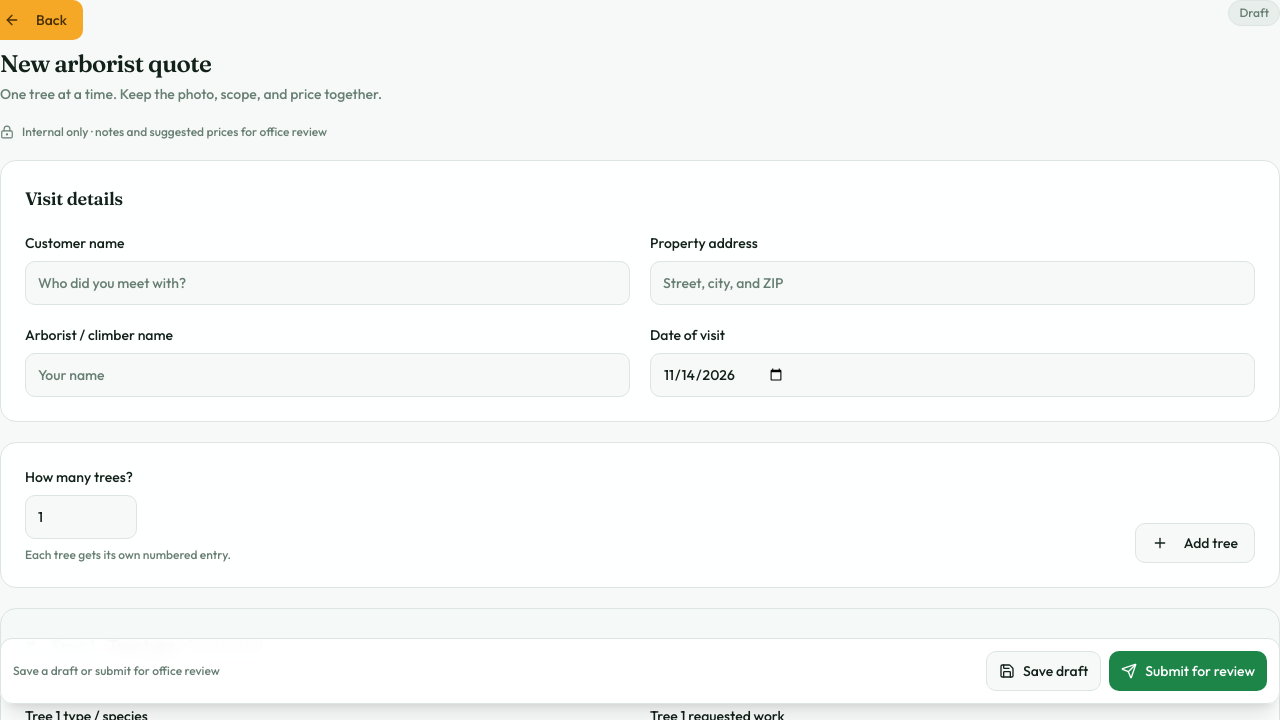
Test: arborist quote editor › creates five separately numbered trees and keeps notes with the correct tree after removal
Replace the text in the number field labelled "How many trees?" with "5" at (81, 517), box [25,495,137,539]
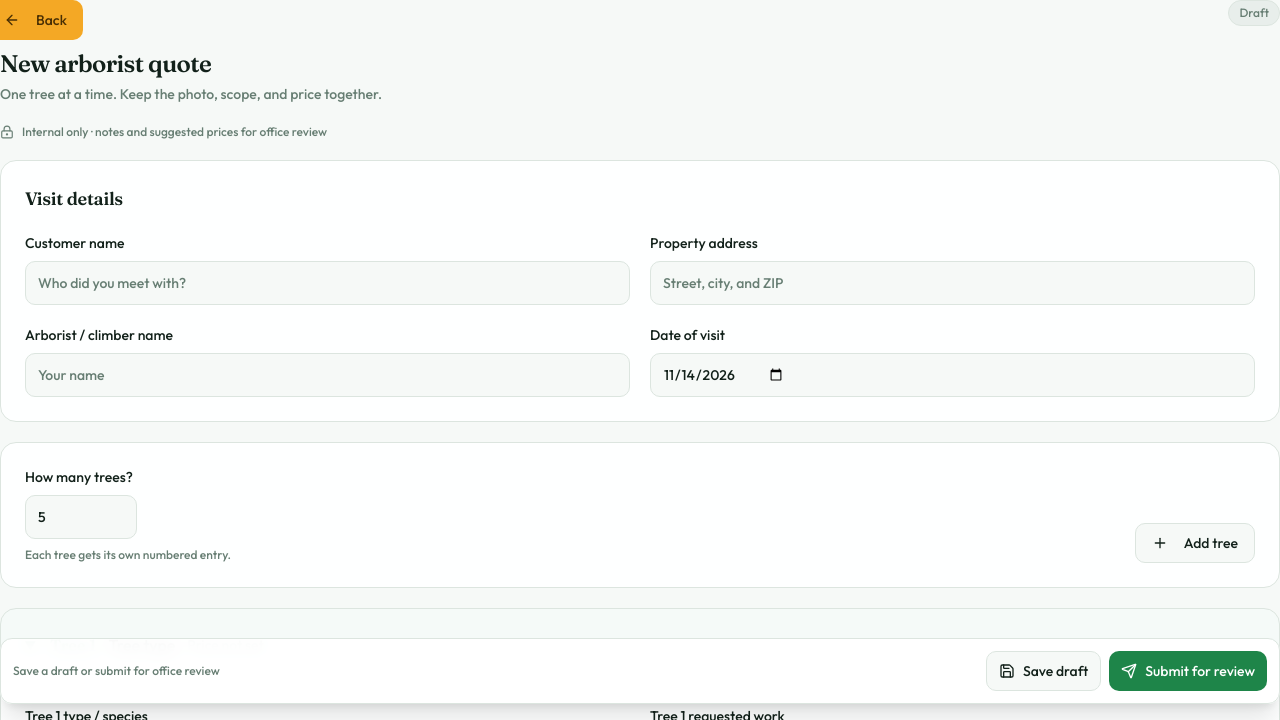
Leave the number field labelled "How many trees?", box [25,495,137,539]
(page scrolled)
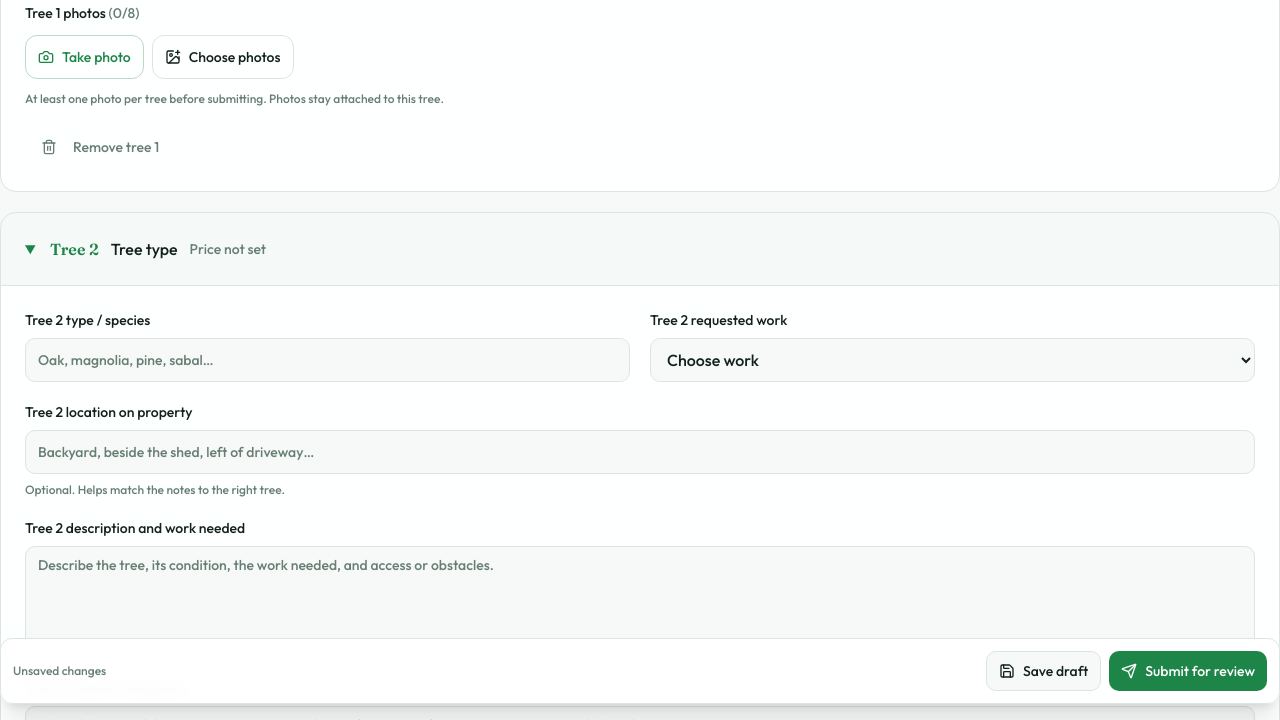
Expected: the number of elements with test id "arborist-tree" is 5
Type "Magnolia" into the field labelled "Tree 2 type / species".
click(328, 360); type("Magnolia")  # box [25,338,630,382]
(page scrolled)
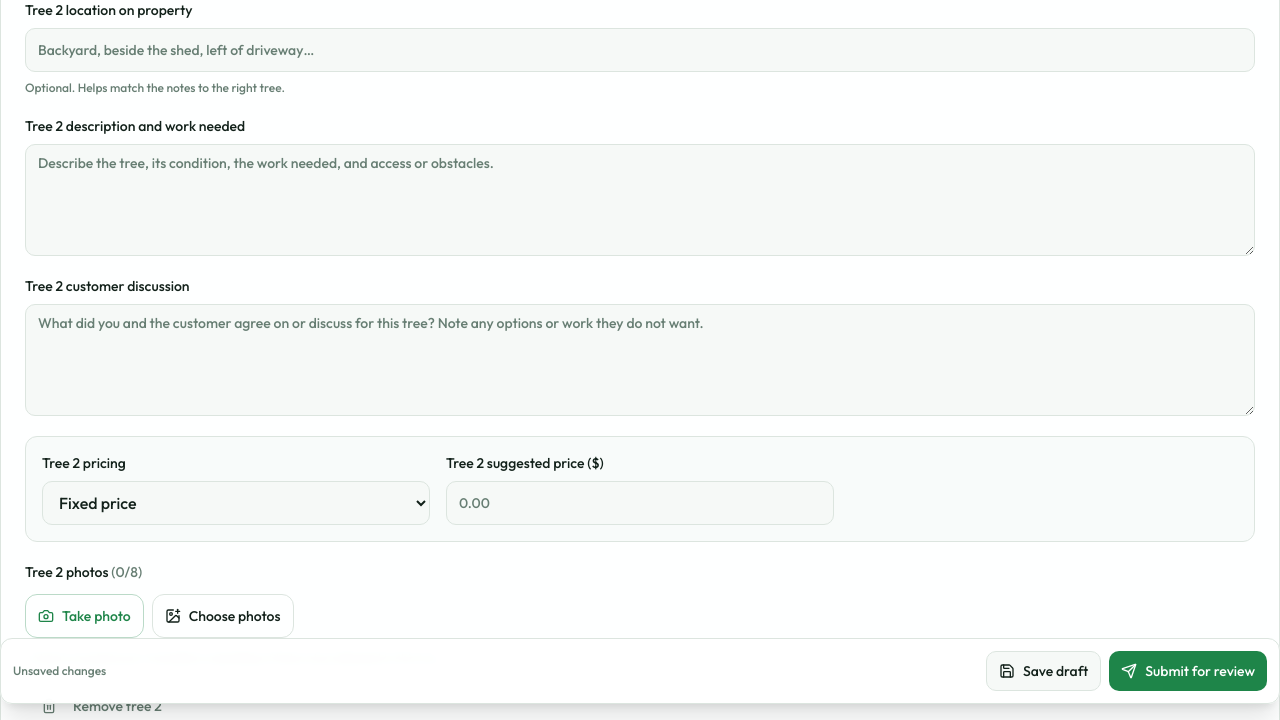
Replace the text in the text box labelled "Tree 2 customer discussion" with "Only limbs over shed" at (640, 360), box [25,304,1255,416]
(page scrolled)
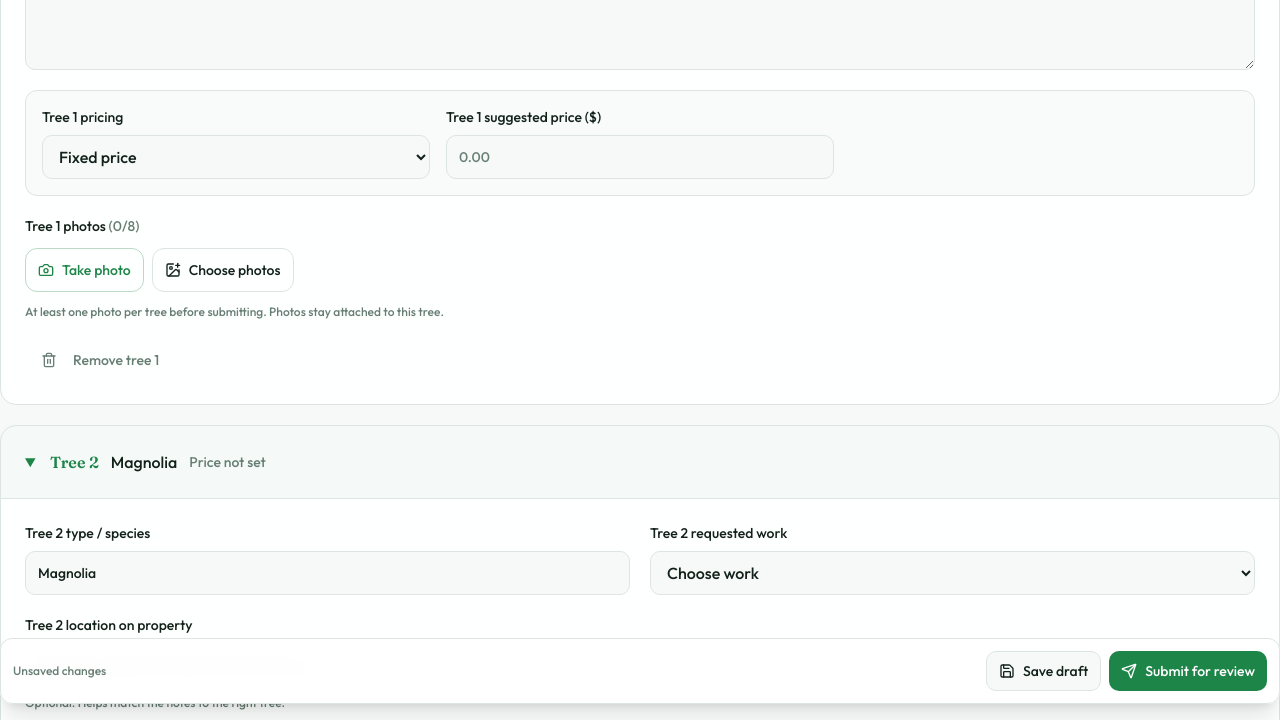
Click the button "Remove tree 1".
click(100, 360)  # box [25,340,175,380]
(page scrolled)
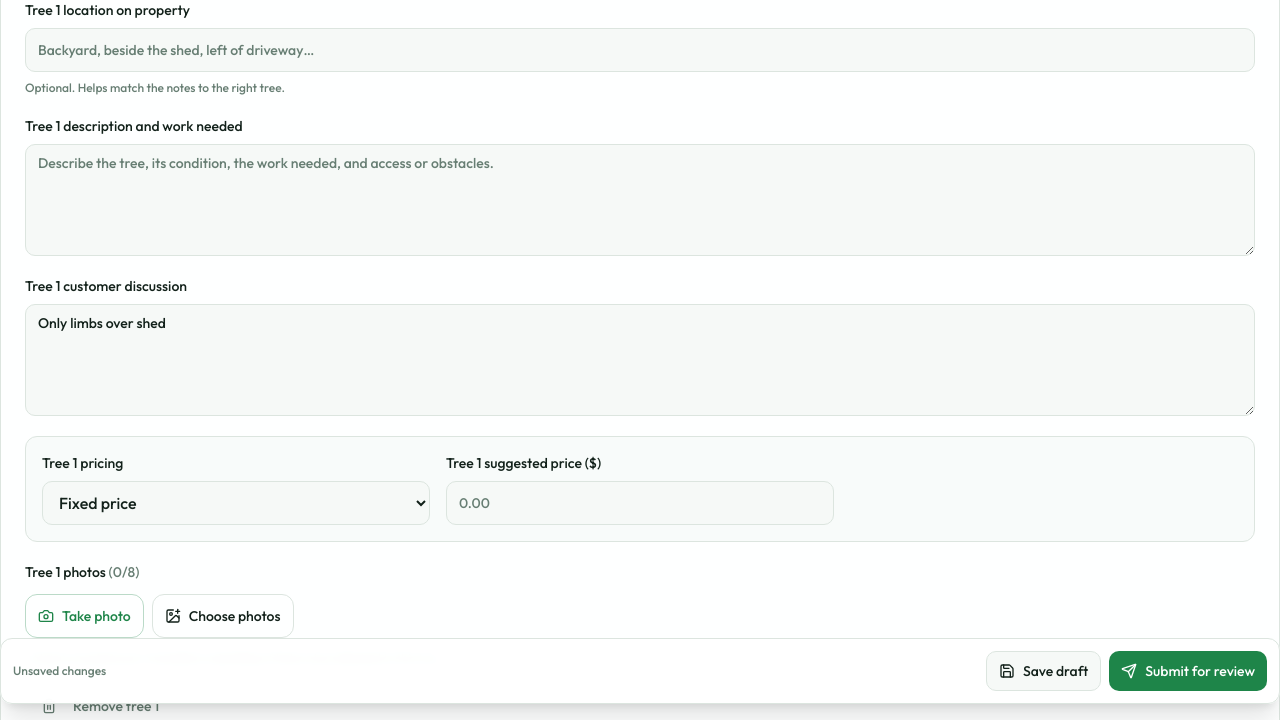
Expected: the number of elements with test id "arborist-tree" is 4
